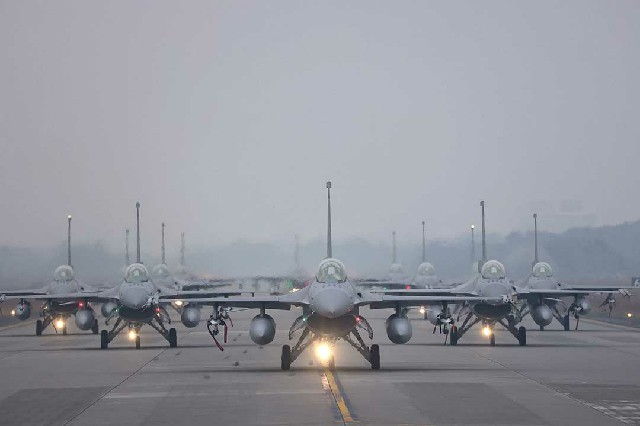maybay_khongnguoilai: (176, 212, 488, 370), (32, 249, 274, 368), (456, 234, 637, 339), (10, 252, 145, 341)
